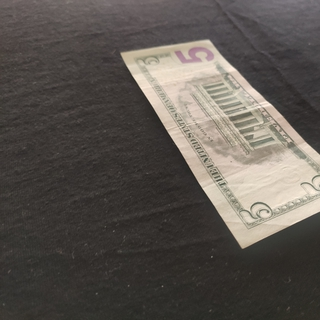5USDBack: (120, 37, 320, 249)
